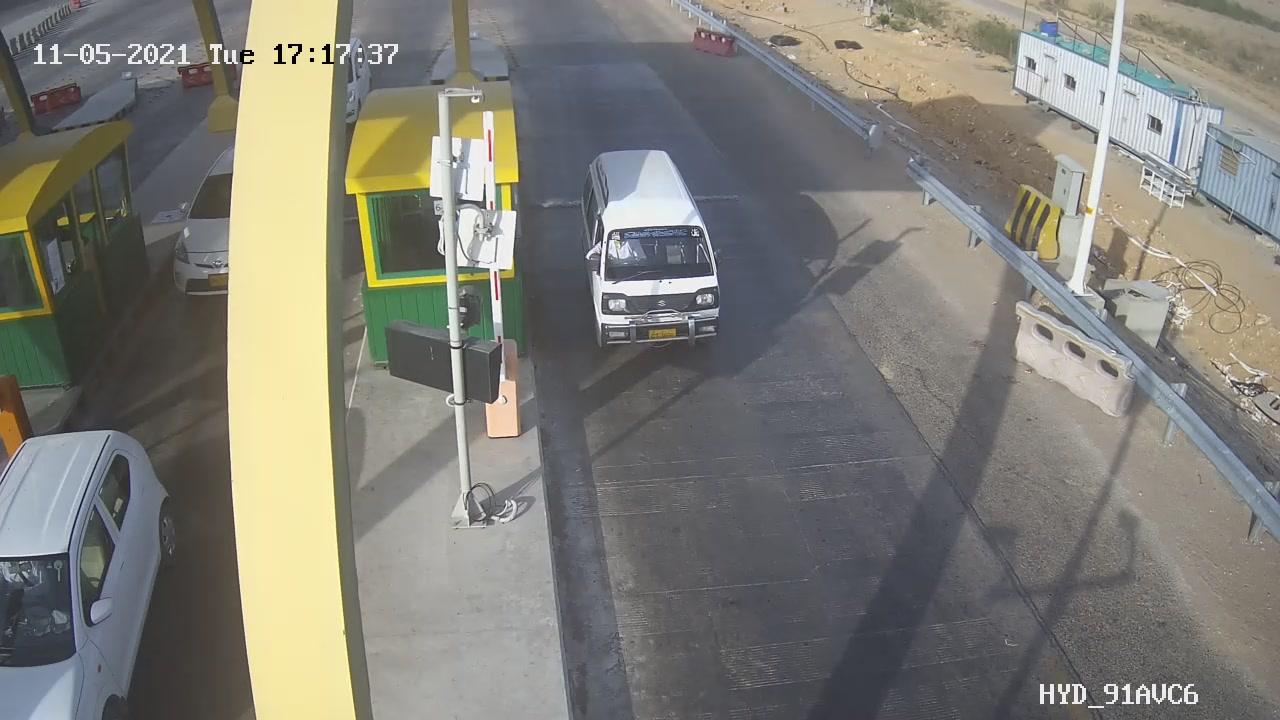F1: (560, 129, 747, 375)
